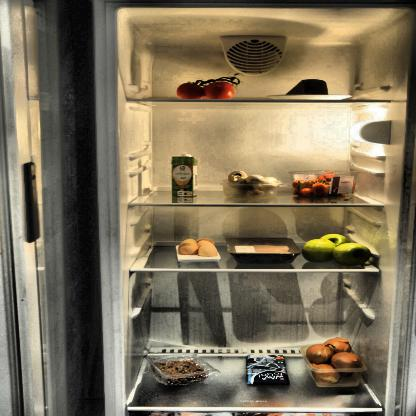apple: (300, 233, 375, 267)
cheese: (286, 78, 330, 96)
chicken: (229, 236, 297, 256)
chocolate: (246, 352, 288, 388)
eggs: (176, 236, 219, 260)
heavy_cream: (169, 154, 200, 198)
mushrooms: (226, 171, 279, 200)
onion: (304, 336, 365, 386)
shrimp: (148, 357, 214, 385)
strawberries: (291, 171, 360, 197)
tomato: (175, 77, 236, 101)
